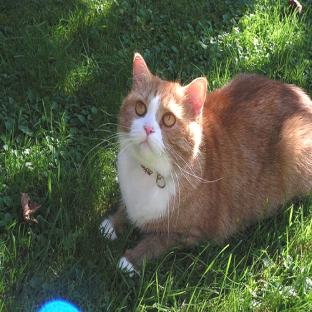Animal: (101, 53, 311, 273)
